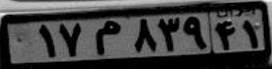character: (91, 18, 123, 57), (126, 18, 158, 55), (57, 22, 87, 59), (182, 14, 210, 52), (156, 15, 181, 54), (214, 18, 238, 53), (36, 22, 58, 59), (239, 17, 262, 48)
